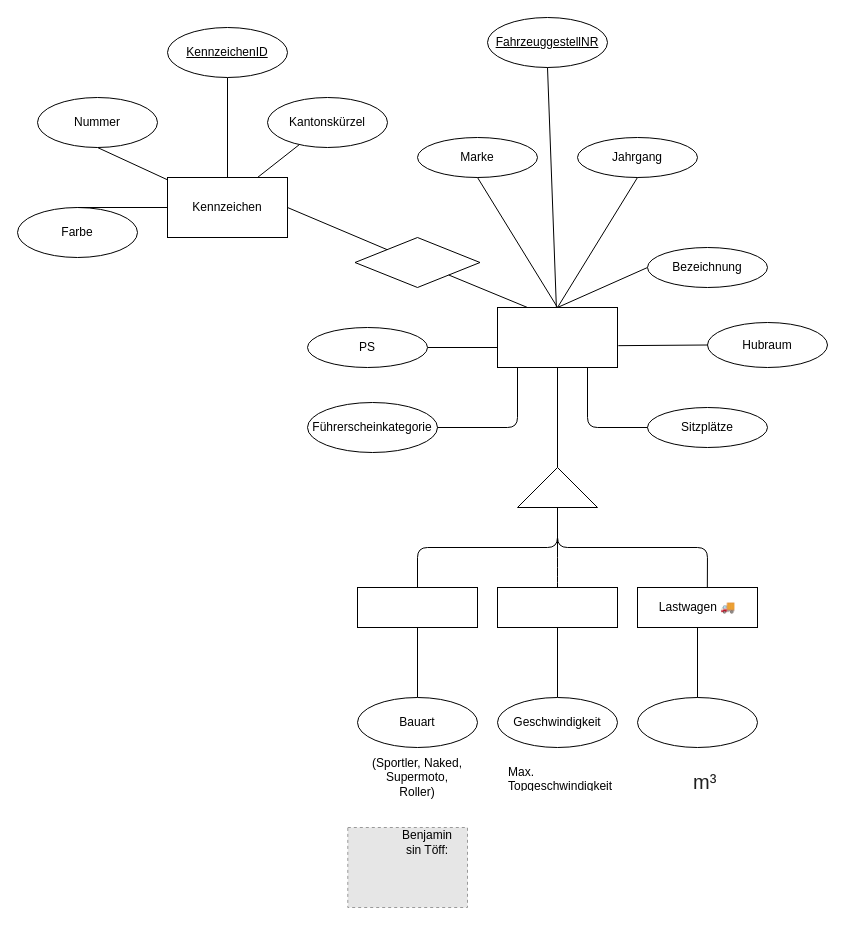
This 845x925 diagram has some shape labels left out. Grey dashed boxes stand in for pictures. Each missing label, with the centre of its shape:
"besitzt" goes at [417,262].
"Fahrzeug" goes at [557,337].
"is-a" goes at [557,487].
"Motorrad 🏍️" goes at [417,607].
"Sportwagen 🏎️" goes at [557,607].
"Stauraum" goes at [697,722].
